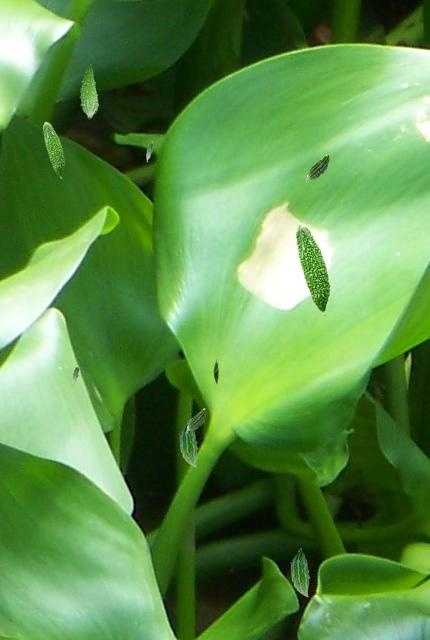ampalaya: (295, 224, 331, 315), (42, 121, 65, 179), (79, 63, 99, 119), (290, 547, 310, 597), (178, 419, 198, 467), (305, 153, 329, 182), (185, 407, 207, 433), (212, 358, 219, 384), (72, 365, 79, 386), (146, 141, 153, 162)
